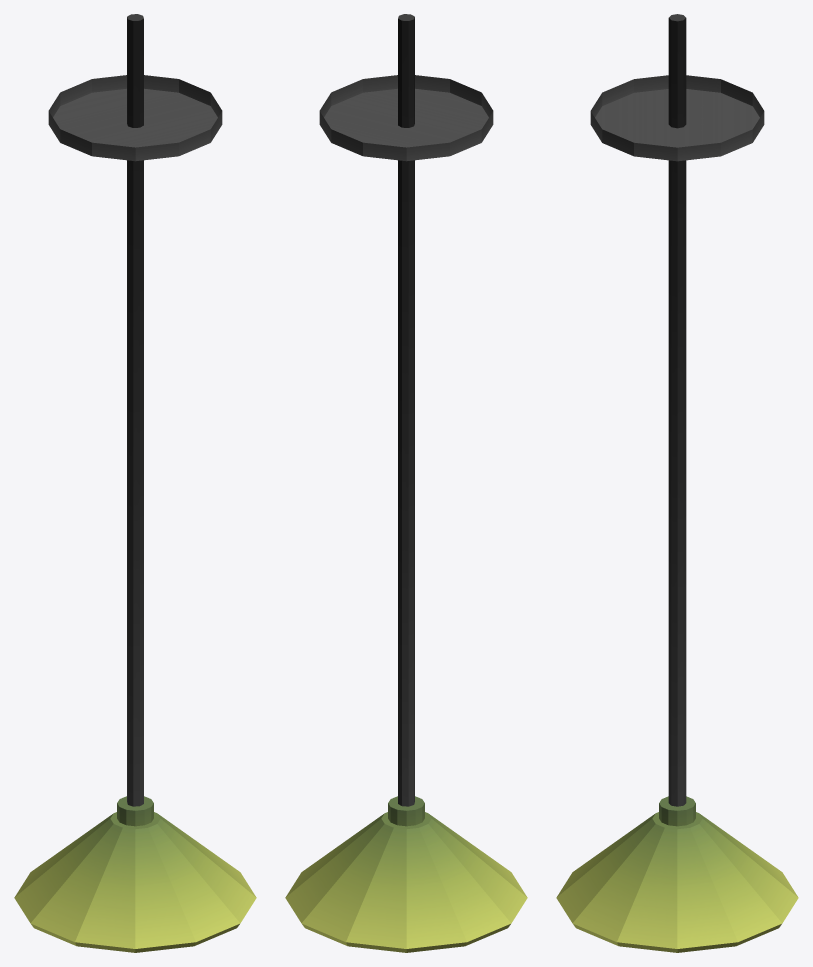
The model's file is SM_ceilingLamp.fbx.
3 renders of one model, left to right at view 1: azimuth 30°, elevation 25°; view 2: azimuth 150°, elevation 25°; view 3: azimuth 270°, elevation 25°, orthographic.
Parts seen in each view (by area): view 1: lamphead, kable, lampattach; view 2: lamphead, kable, lampattach; view 3: lamphead, kable, lampattach.
Part boxes in pixels (x1,y1,x2,y2): lamphead: (14,796,256,952); kable: (127,14,143,806); lampattach: (48,75,222,161); lamphead: (285,796,527,952); kable: (398,14,414,806); lampattach: (319,75,493,161); lamphead: (556,796,798,952); kable: (668,14,686,806); lampattach: (590,75,764,161).
Size of the model in its own units: 279 by 1138 by 279.
